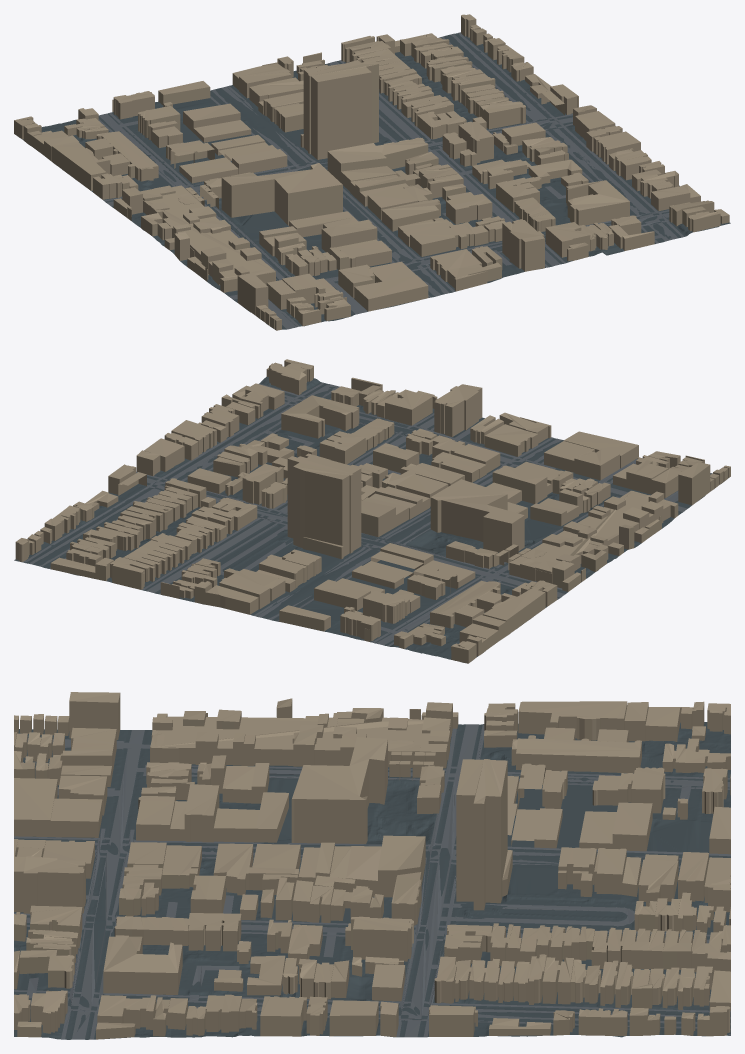
Rendered from epsg26910-1435-10882.lod0.glb.
The picture shows the model from 3 angles, top to bottom: view 1: azimuth 30°, elevation 25°; view 2: azimuth 150°, elevation 25°; view 3: azimuth 270°, elevation 25°; orthographic projection. The views are drawn at different scales.
Parts seen in each view (by area): view 1: epsg26910-1435-10882-lod0; view 2: epsg26910-1435-10882-lod0; view 3: epsg26910-1435-10882-lod0.
Boxes of the visible parts, bbox=[...] form: epsg26910-1435-10882-lod0: bbox=[14, 14, 730, 330]; epsg26910-1435-10882-lod0: bbox=[14, 359, 730, 663]; epsg26910-1435-10882-lod0: bbox=[14, 692, 730, 1039].
Size of the model in its own units: 384 by 68.21 by 384.
